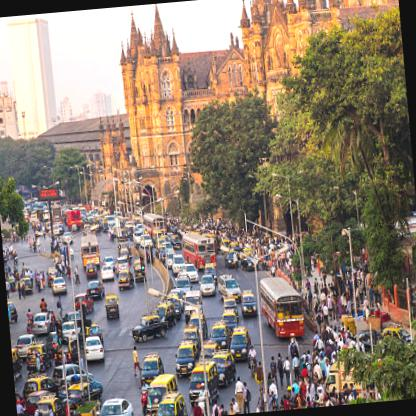bus: (260, 276, 305, 340), (181, 233, 217, 272), (80, 234, 100, 264)
car: (145, 372, 182, 415), (190, 363, 218, 404), (130, 313, 168, 342), (68, 381, 102, 413), (150, 390, 190, 415), (22, 375, 58, 401), (138, 350, 164, 385), (93, 396, 136, 415), (213, 352, 236, 386), (26, 346, 53, 374), (216, 274, 241, 304), (229, 328, 252, 359), (175, 342, 198, 372), (84, 336, 106, 366), (14, 332, 37, 360), (37, 398, 67, 415), (32, 312, 52, 335), (240, 292, 257, 316), (182, 262, 198, 286), (61, 321, 78, 342), (175, 275, 191, 296), (104, 296, 119, 318), (86, 280, 103, 298), (199, 274, 213, 295), (118, 272, 134, 290), (52, 278, 66, 295), (20, 276, 33, 294), (100, 264, 114, 280), (172, 255, 184, 272)
